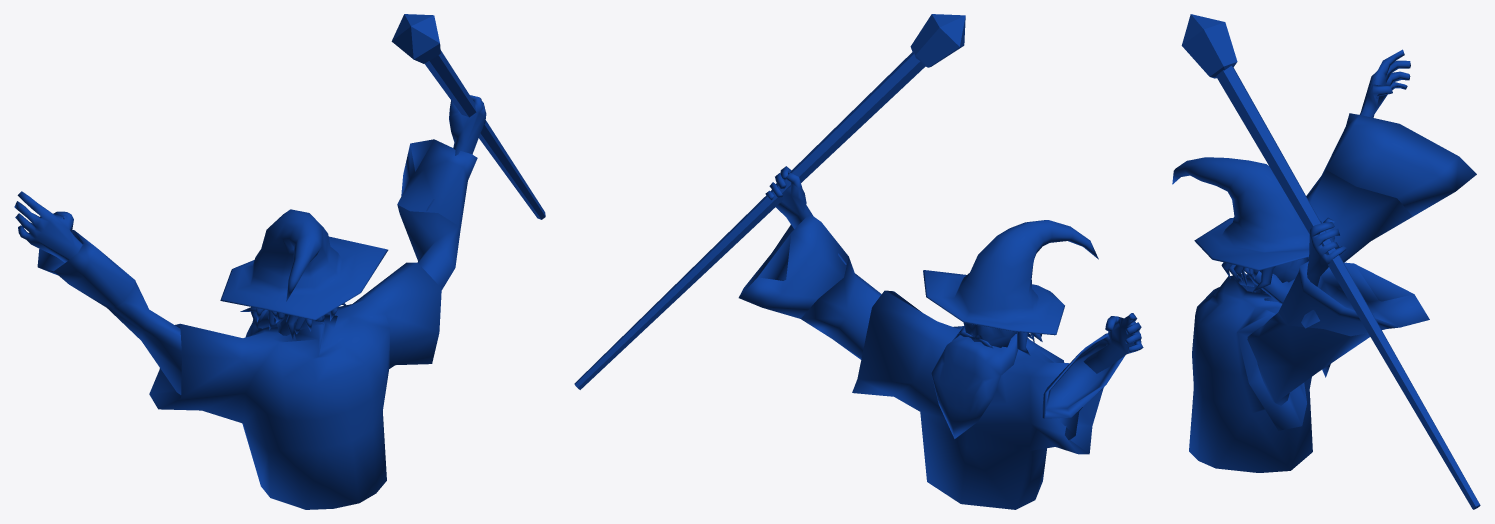
File: top_000042.obj
The picture shows the model from 3 angles, left to right: view 1: azimuth 30°, elevation 25°; view 2: azimuth 150°, elevation 25°; view 3: azimuth 270°, elevation 25°; orthographic projection. The views are drawn at different scales.
Parts seen in each view (by area): view 1: Wizard.002_Plane.002; view 2: Wizard.002_Plane.002; view 3: Wizard.002_Plane.002.
Part boxes in pixels (x1,y1,x2,y2): Wizard.002_Plane.002: (14,14,545,509); Wizard.002_Plane.002: (574,14,1143,509); Wizard.002_Plane.002: (1172,14,1480,509).
Bounding box in the file's own units: 1.98 × 1.57 × 0.9321.
